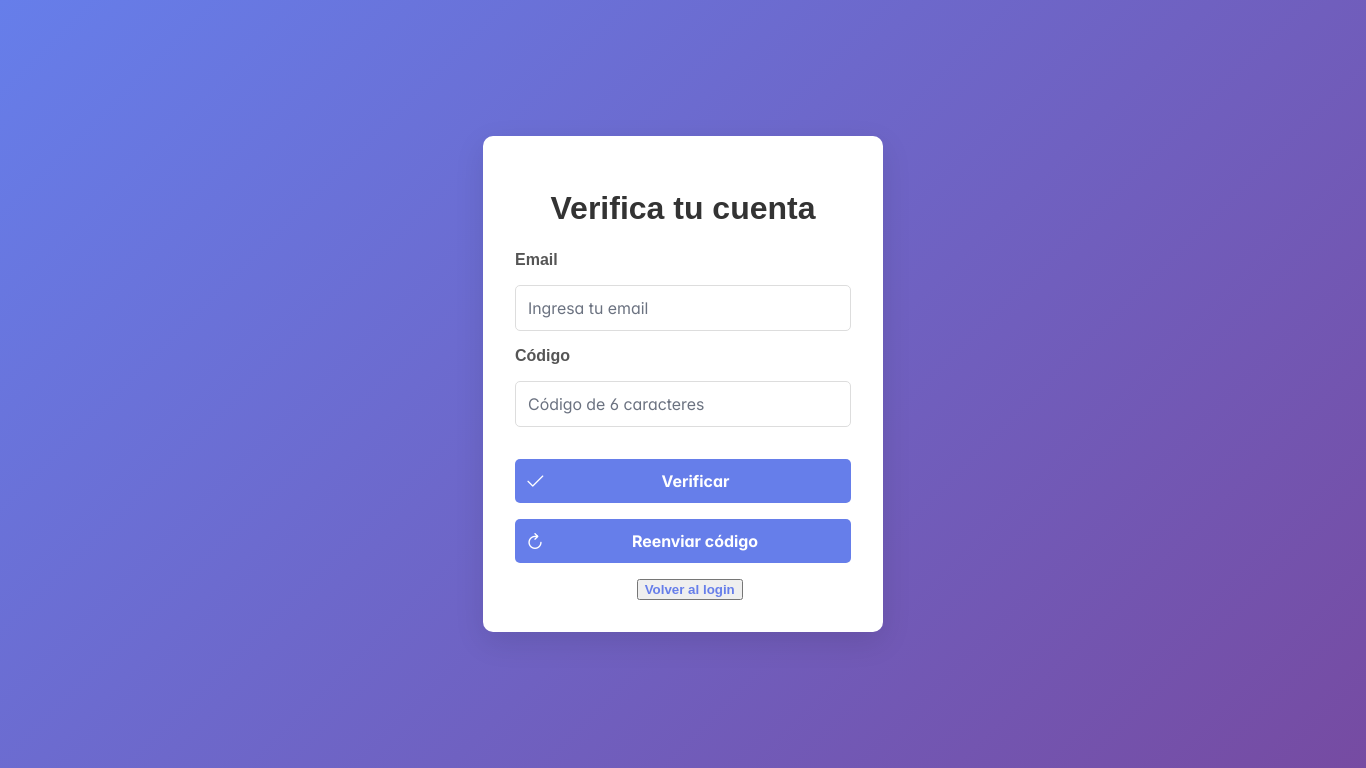
Test case: Verify Component › shows warning on resend without email
The image size is (1366, 768).
Click the button "Reenviar código". click: (683, 541)
box: [515,519,851,563]
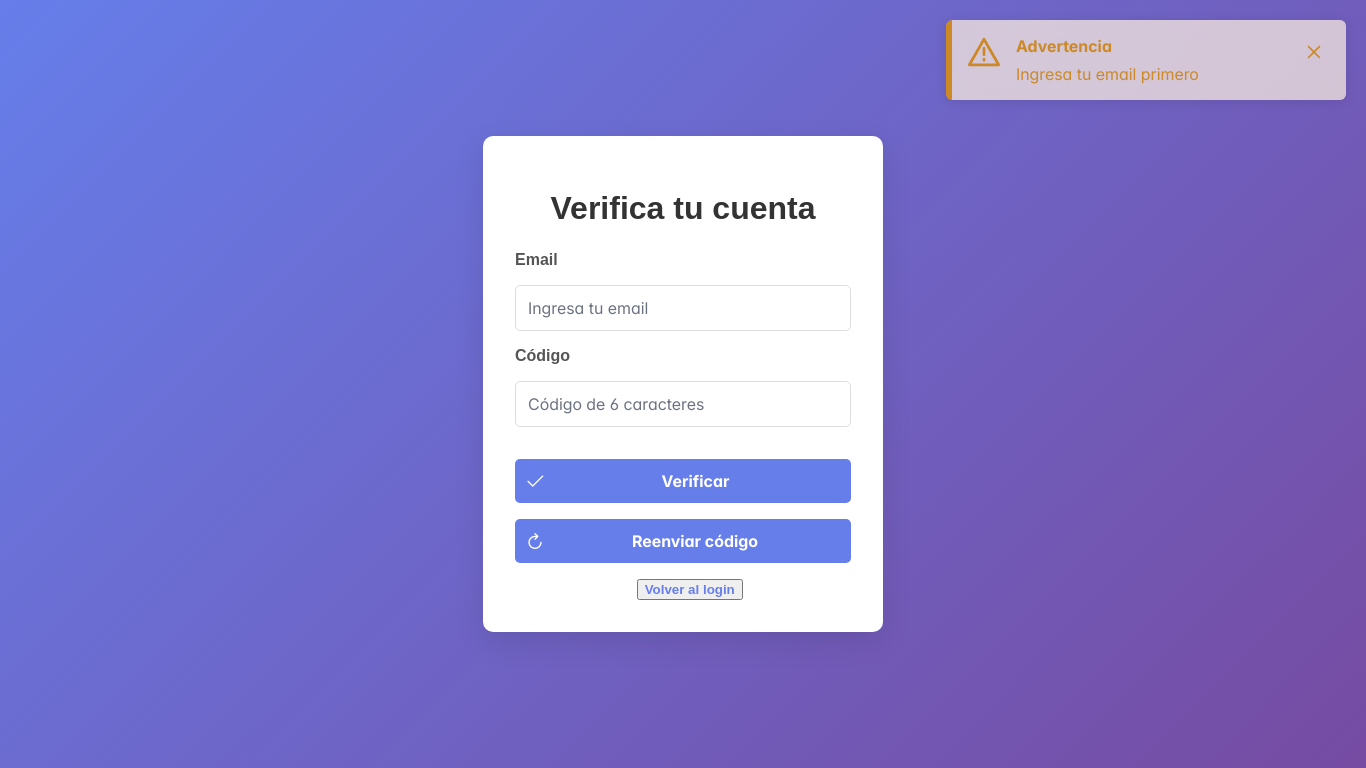
Check: the text "Ingresa tu email primero" is shown, box [1016,64,1199,84]
